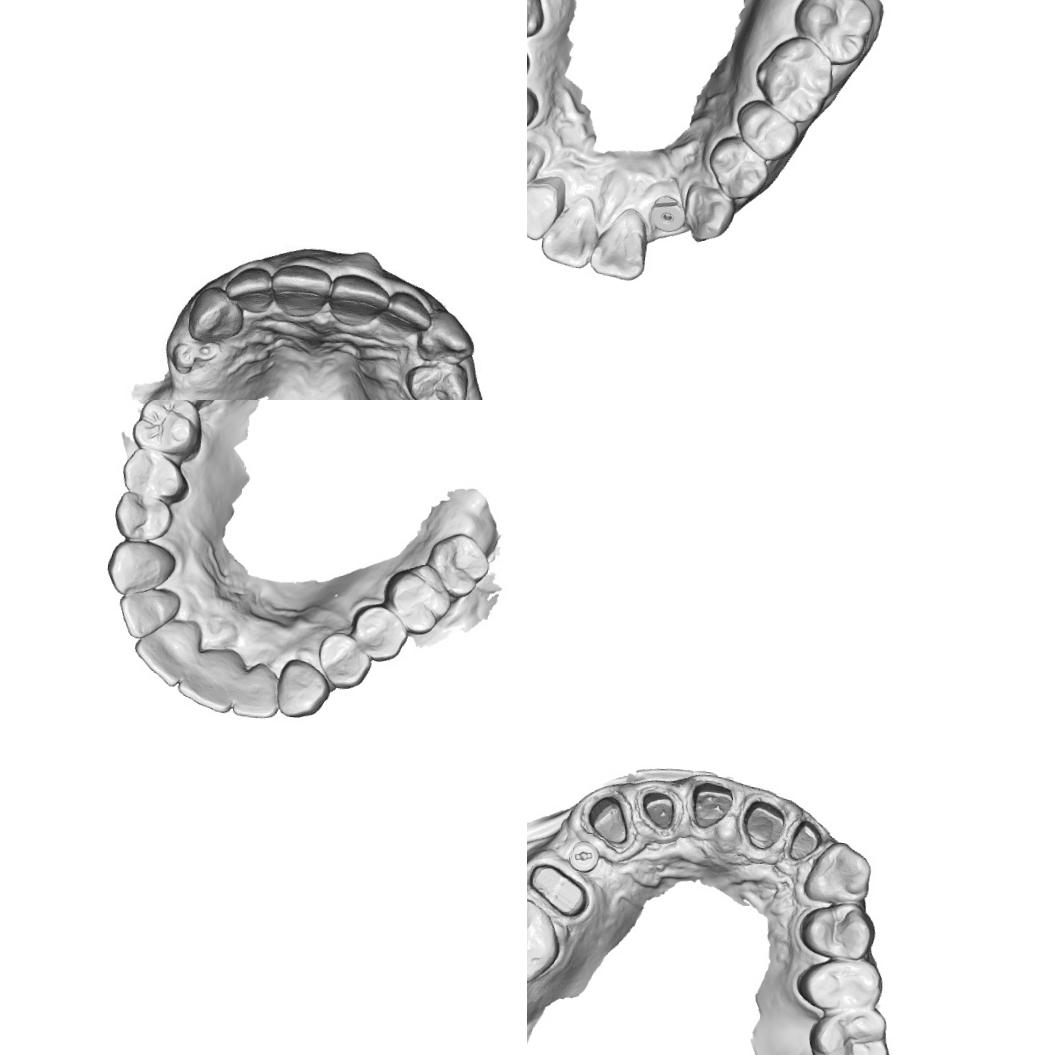canine: (800, 836, 876, 909), (102, 536, 177, 599), (181, 284, 250, 348), (274, 655, 333, 721), (682, 180, 738, 246), (416, 309, 478, 368), (527, 135, 546, 195)
crown: (527, 859, 593, 921), (737, 788, 790, 857), (631, 778, 687, 839), (582, 786, 636, 848), (683, 774, 736, 836), (779, 809, 832, 870)
implant: (647, 192, 687, 234)
implant_minus: (565, 836, 604, 876)
incisor: (130, 616, 202, 690), (587, 204, 650, 282), (538, 192, 598, 270), (175, 644, 239, 714), (271, 260, 336, 321), (116, 584, 182, 643), (325, 271, 388, 328), (231, 659, 282, 720), (221, 263, 276, 315), (380, 288, 431, 338), (527, 178, 561, 242)
molar: (750, 33, 837, 126), (379, 558, 454, 638), (789, 0, 877, 67), (422, 528, 492, 602), (128, 400, 206, 464), (803, 1001, 894, 1055), (527, 889, 566, 986)
premolar: (790, 952, 887, 1016), (796, 896, 878, 963), (704, 132, 772, 202), (733, 98, 801, 164), (118, 446, 192, 504), (347, 600, 410, 666), (314, 630, 374, 691), (112, 489, 175, 543), (403, 353, 474, 400)
